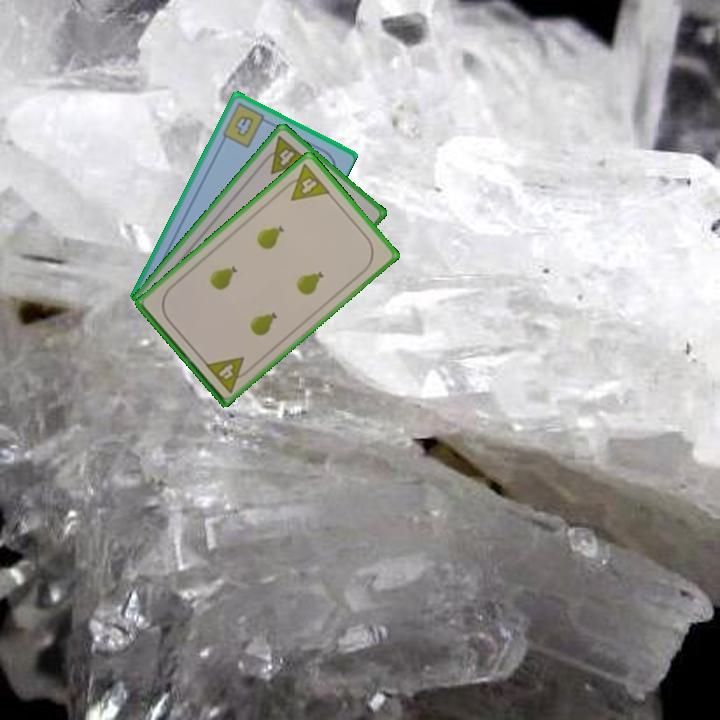4b: (219, 99, 273, 150)
4p: (257, 132, 312, 177), (279, 160, 333, 204), (201, 353, 255, 395)
